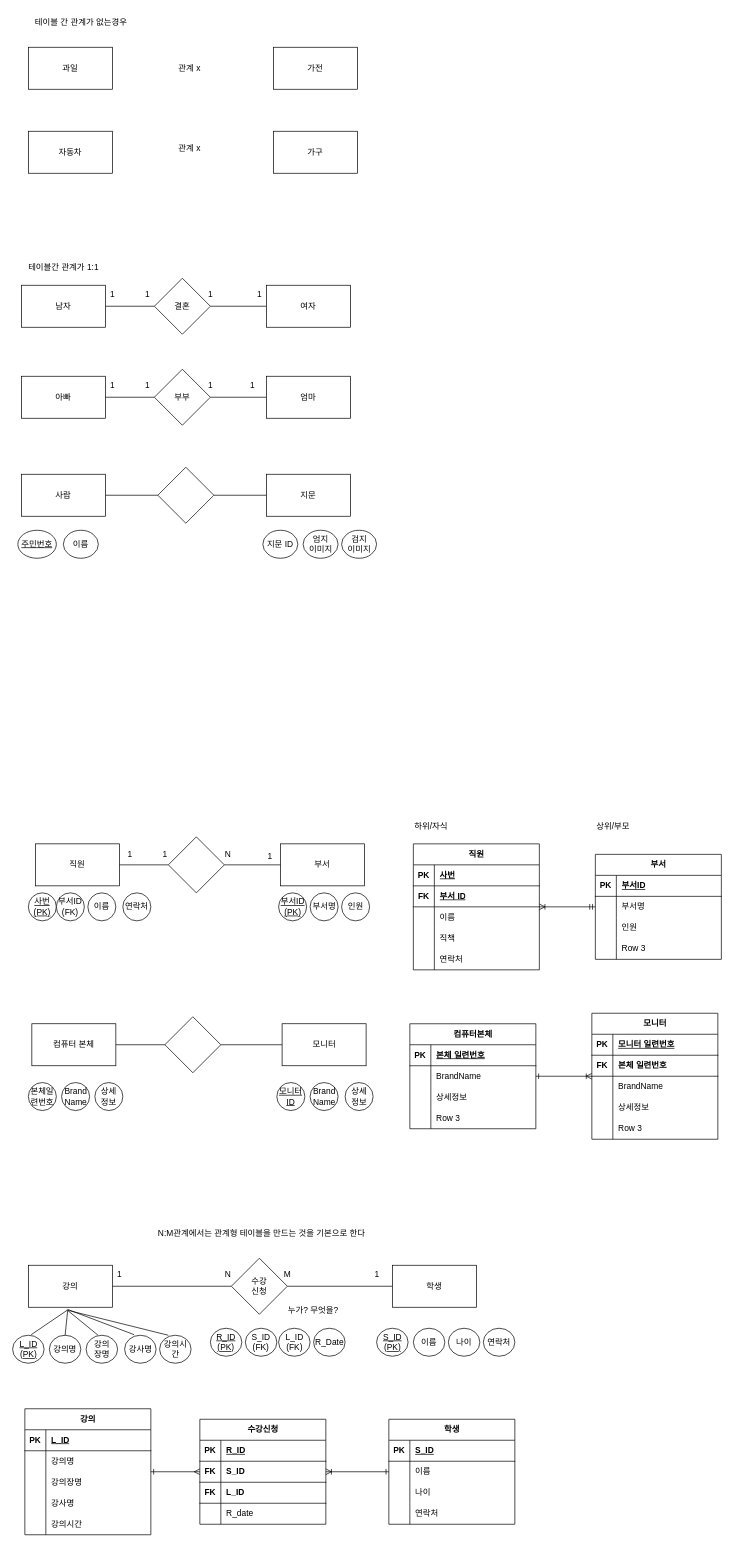
The diagram is 734 pixels wide and 1547 high, and some of its shapes have lost their labels. The shapes that lost their labels are listed below. From the top down, each one's centre as x and y in pixels, then its label:
At point (185, 495): "소유".
At point (196, 864): "소속".
At point (192, 1044): "연결".
